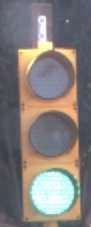Green: (14, 47, 88, 223)
